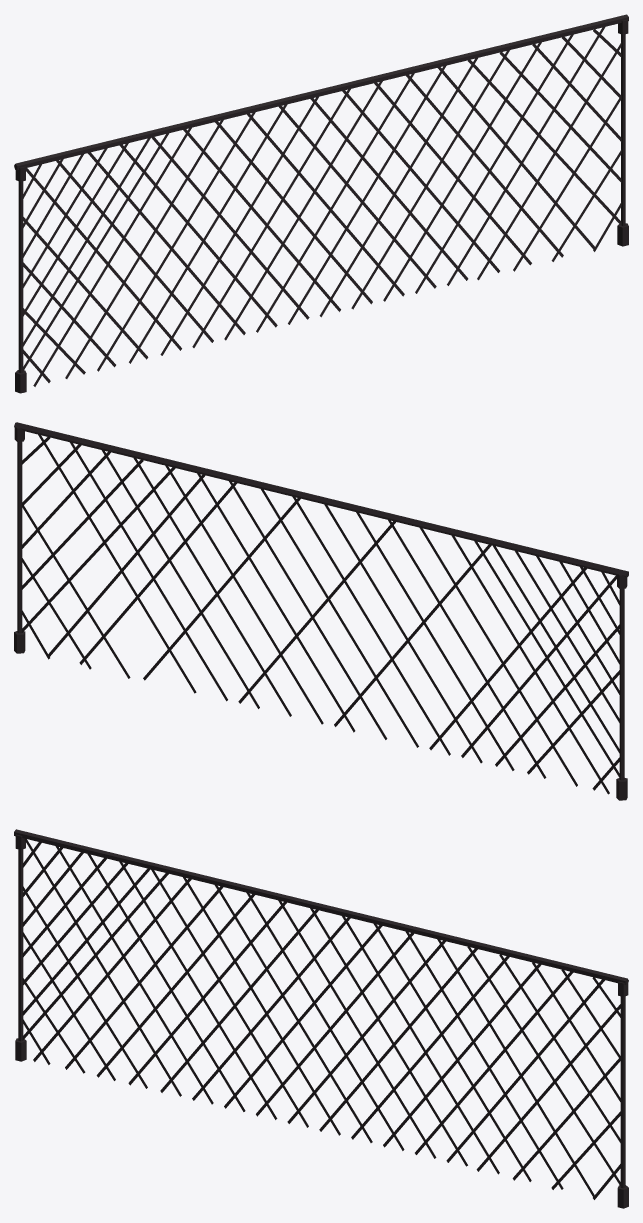
Rendered from Fence.fbx.
The picture shows the model from 3 angles, top to bottom: view 1: azimuth 30°, elevation 25°; view 2: azimuth 150°, elevation 25°; view 3: azimuth 330°, elevation 25°; orthographic projection.
Parts seen in each view (by area): view 1: Cylinder.003; view 2: Cylinder.003; view 3: Cylinder.003.
Part boxes in pixels (left/top/right/bottom): Cylinder.003: left=14, top=14, right=628, bottom=393; Cylinder.003: left=14, top=422, right=628, bottom=800; Cylinder.003: left=14, top=829, right=628, bottom=1208.
Size of the model in its own units: 2003 by 717 by 30.9.
1 material, 1 textured.
